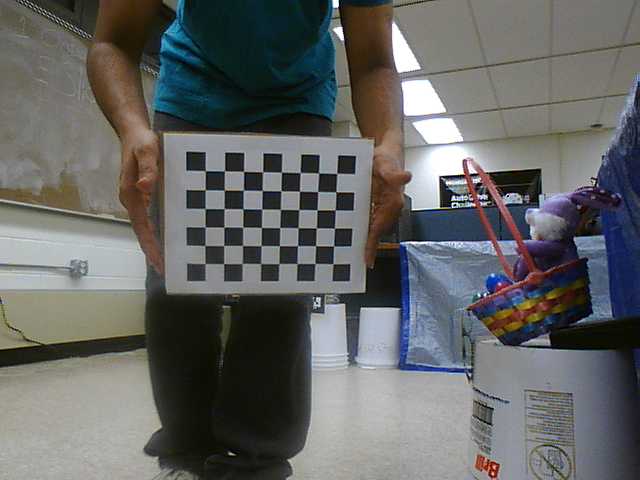bunny: (452, 152, 607, 353)
